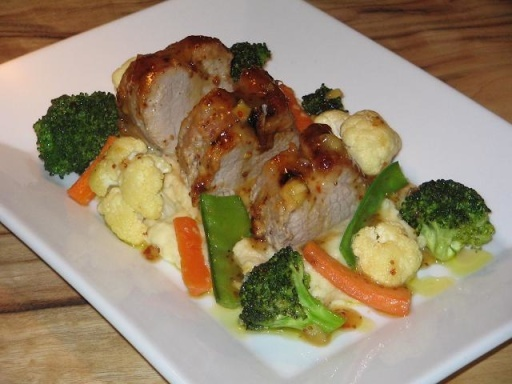background: (26, 20, 337, 200), (79, 51, 395, 157)
